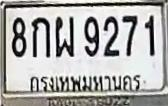1: (144, 14, 154, 56)
2: (103, 15, 118, 56)
7: (122, 15, 137, 56)
8: (11, 16, 26, 56)
9: (83, 16, 99, 56)
A01: (31, 16, 50, 57)
A28: (54, 15, 74, 56)
BKK: (27, 74, 144, 93)
